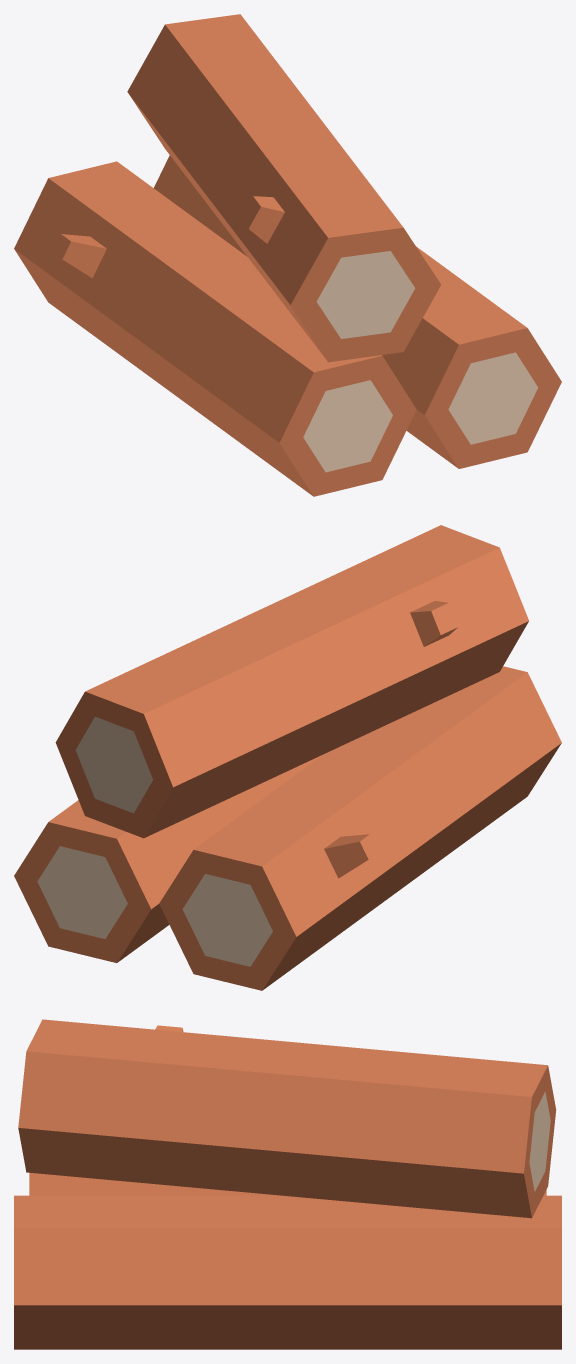
File: log_stack.dae
3 views of the same model, one above another, from view 1: azimuth 30°, elevation 25°; view 2: azimuth 150°, elevation 25°; view 3: azimuth 270°, elevation 25° (orthographic). The views are drawn at different scales.
Parts seen in each view (by area): view 1: log_stack; view 2: log_stack; view 3: log_stack.
Part boxes in pixels (x1=…): log_stack: x1=14, y1=14, x2=561, y2=496; log_stack: x1=14, y1=525, x2=561, y2=990; log_stack: x1=14, y1=1019, x2=561, y2=1349.
Size of the model in its own units: 0.4247 by 0.3464 by 0.71.
